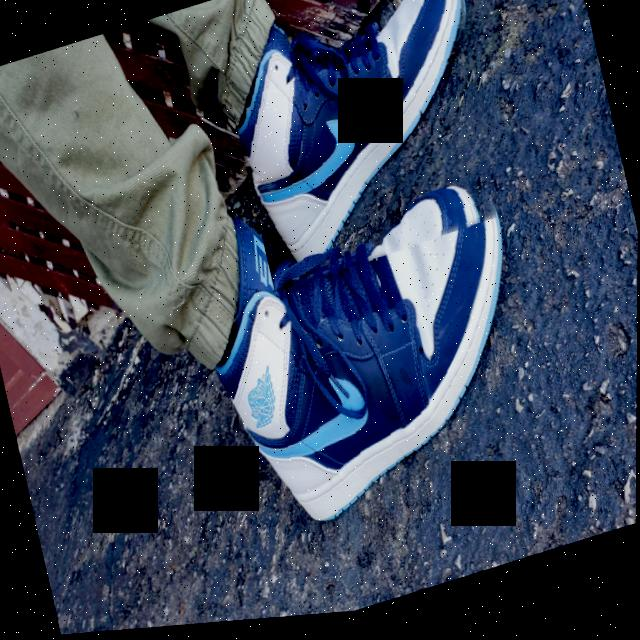shoe: (184, 142, 559, 559), (214, 0, 517, 302)
